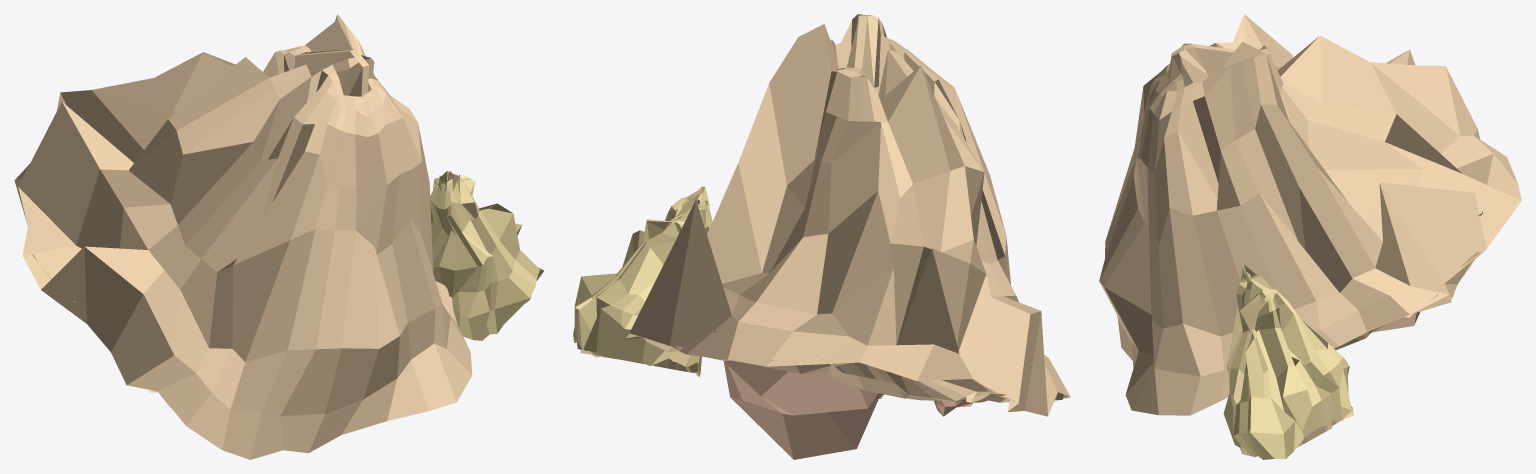
The model's file is stone3.gltf.
3 renders of one model, left to right at view 1: azimuth 30°, elevation 25°; view 2: azimuth 150°, elevation 25°; view 3: azimuth 270°, elevation 25°, orthographic. The views are drawn at different scales.
Parts seen in each view (by area): view 1: Plane.005; view 2: Plane.005; view 3: Plane.005.
Part boxes in pixels (x1,y1,x2,y2): Plane.005: [14, 14, 543, 459]; Plane.005: [573, 14, 1070, 459]; Plane.005: [1099, 14, 1521, 459].
Bounding box in the file's own units: 11.48 × 8.89 × 9.75.
